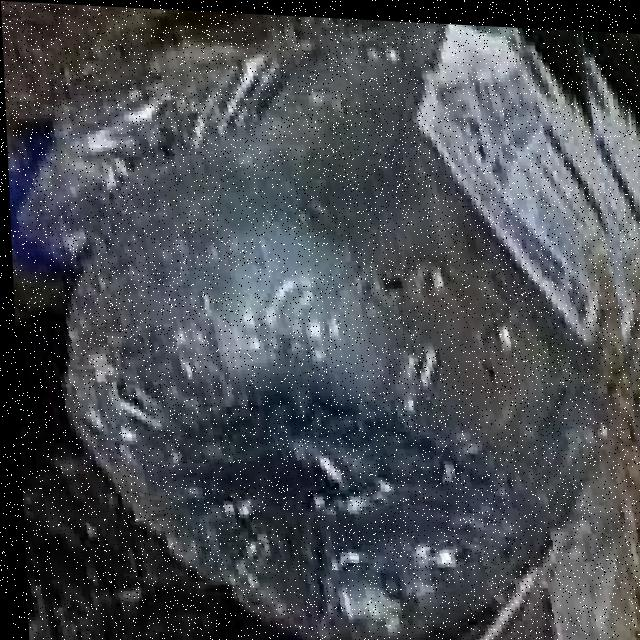plasticbottle: (4, 13, 634, 640)
